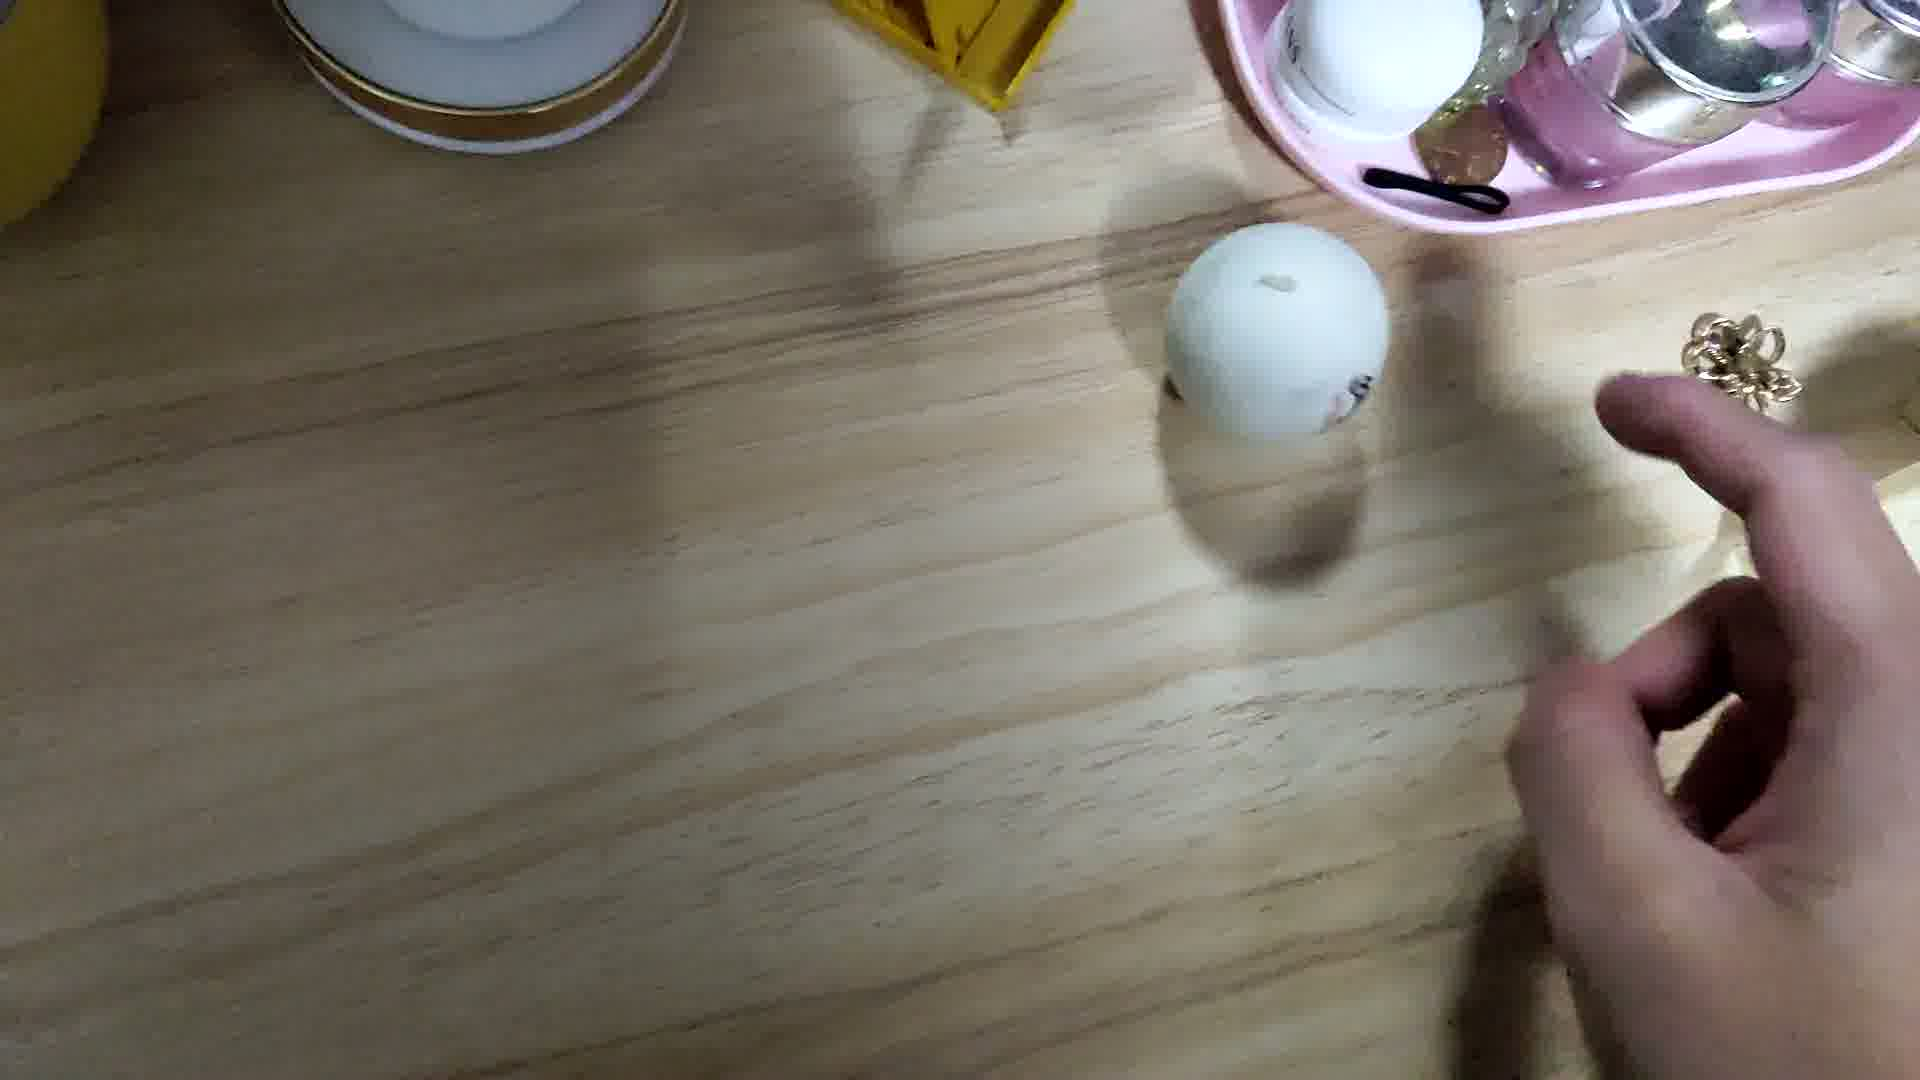Ball: (1170, 224, 1385, 450)
